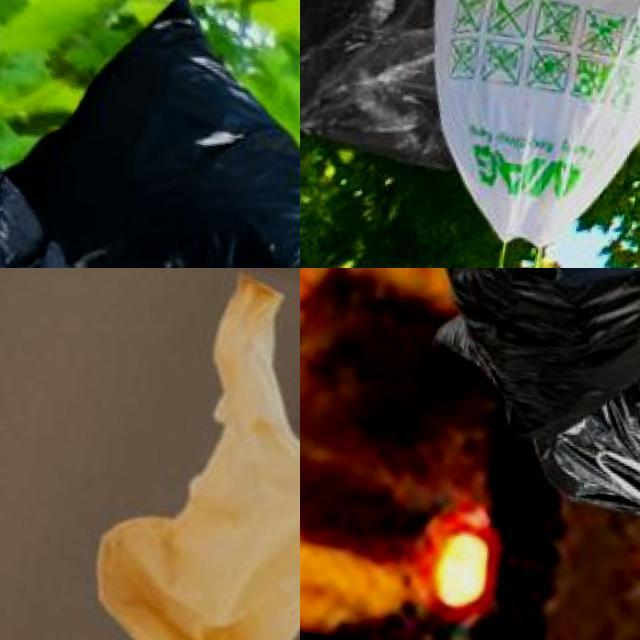waste: (74, 268, 300, 640), (0, 0, 300, 268), (383, 0, 640, 265), (422, 268, 640, 503), (300, 0, 451, 169), (0, 171, 52, 268), (0, 240, 107, 268)
